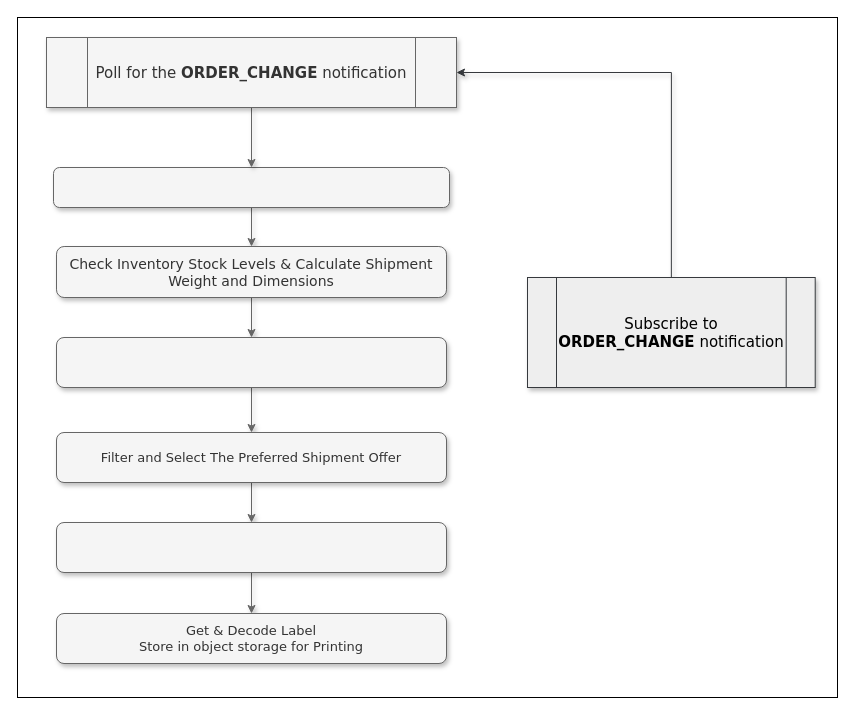
Image size: 855x715. Some labels were removed from this diagram. The centre of each missing label's shape, as x and y in pixels:
Create a Shipment: point (252, 549)
Filter for Unshipped MFN orders: point (252, 188)
Get Eligible Shipment Services: point (252, 363)
